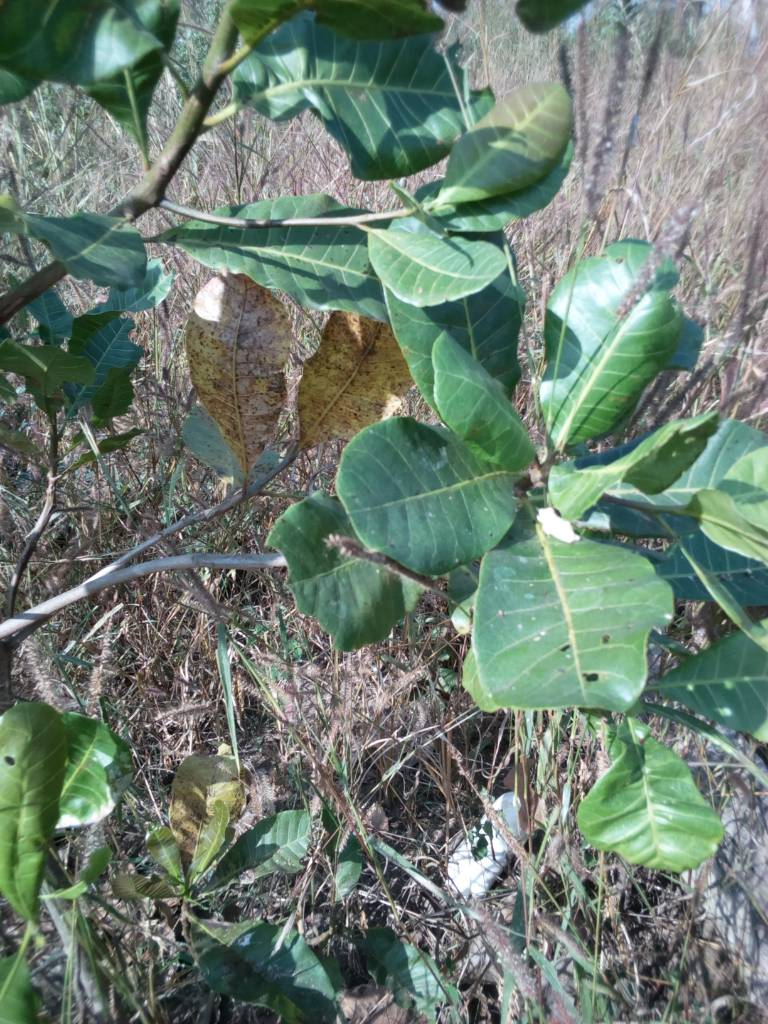Anthracnose: (185, 274, 290, 471), (289, 309, 392, 453)
